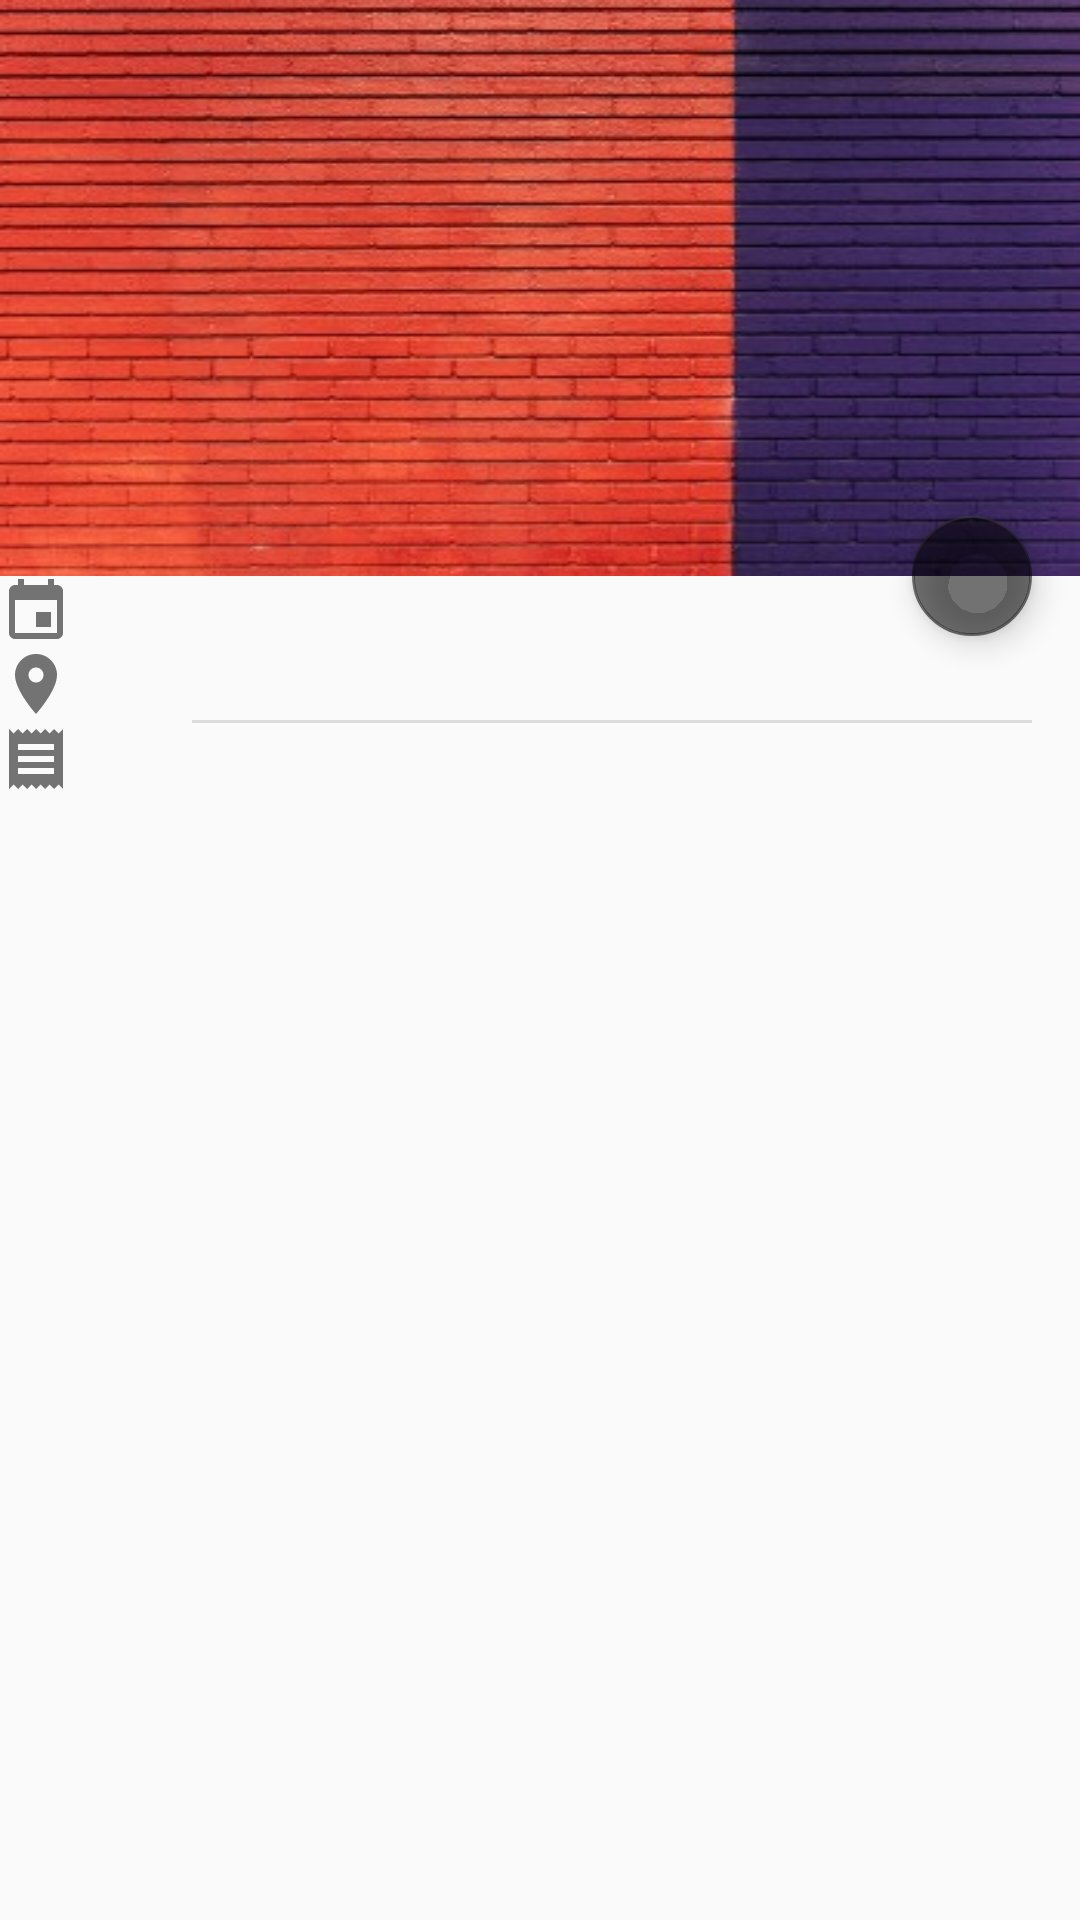

Icons on this 1080px x 1920px Android screen, each with its box as (x1, y1, x2, y2):
event datetime: (9, 579, 63, 639)
event description: (9, 729, 63, 789)
event place: (15, 654, 57, 714)
